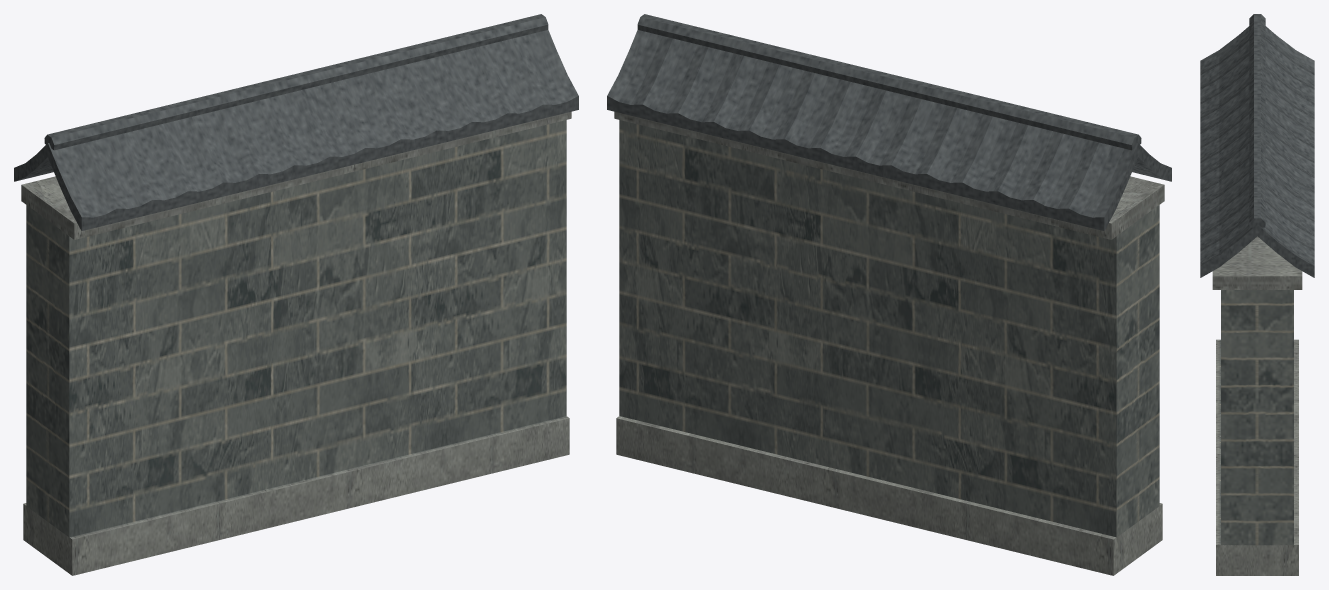
The model's file is WallStraight_LOD1.fbx.
3 renders of one model, left to right at view 1: azimuth 30°, elevation 25°; view 2: azimuth 150°, elevation 25°; view 3: azimuth 270°, elevation 25°, orthographic. The views are drawn at different scales.
Parts seen in each view (by area): view 1: WallStraight.001; view 2: WallStraight.001; view 3: WallStraight.001.
Part boxes in pixels (x1,y1,x2,y2): WallStraight.001: (14,14,578,575); WallStraight.001: (607,14,1171,575); WallStraight.001: (1200,14,1314,575).
Bounding box in the file's own units: 2 × 1.62 × 0.47.
Materials: 1 (1 with a texture image).
